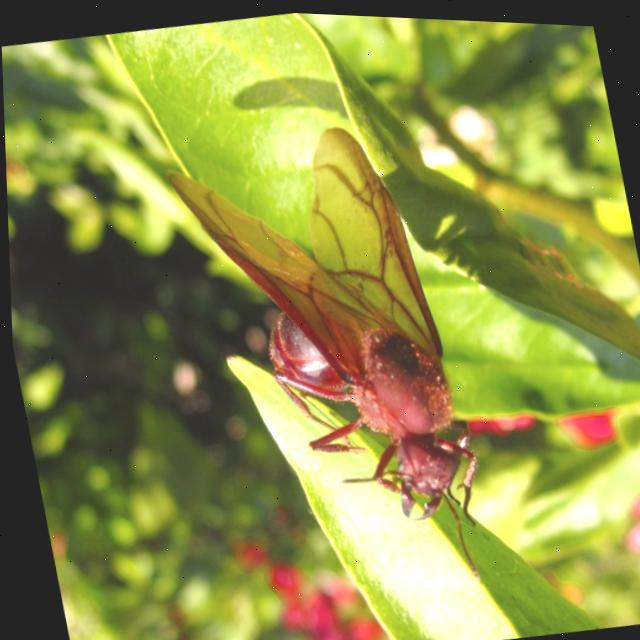Alive-Female-Alate: (156, 108, 488, 562)
